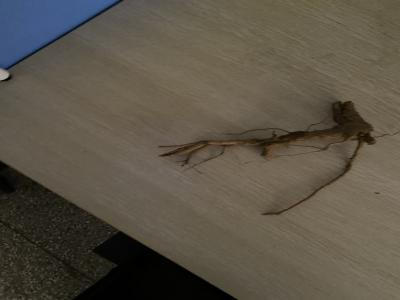Root: (159, 101, 376, 157)
